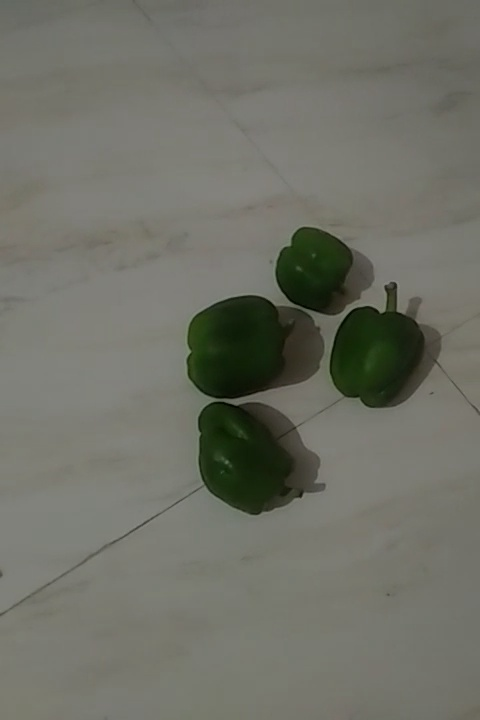capsicum: (190, 400, 301, 516), (187, 287, 298, 395), (324, 297, 432, 406), (269, 219, 355, 310)
